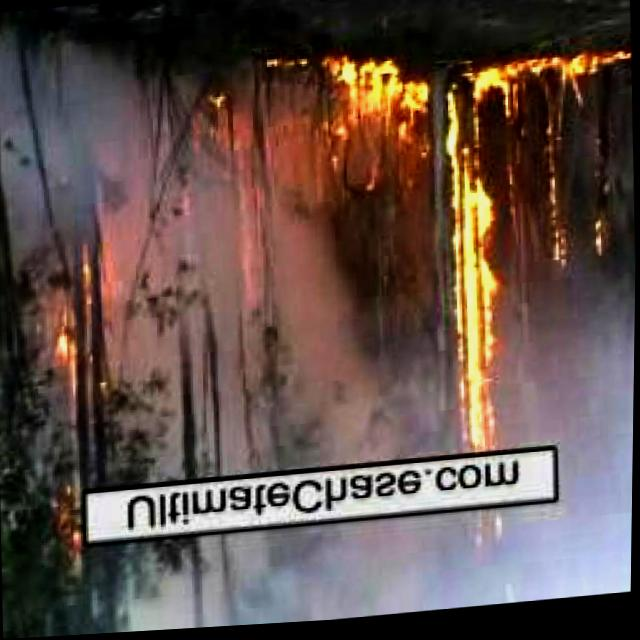helmet: (431, 60, 508, 459), (301, 57, 437, 153), (49, 251, 117, 386), (506, 48, 626, 117), (543, 143, 571, 278), (57, 494, 92, 556), (202, 82, 230, 156), (592, 210, 607, 263)
no_helmet: (102, 163, 439, 482), (139, 507, 634, 633), (0, 7, 200, 254)
